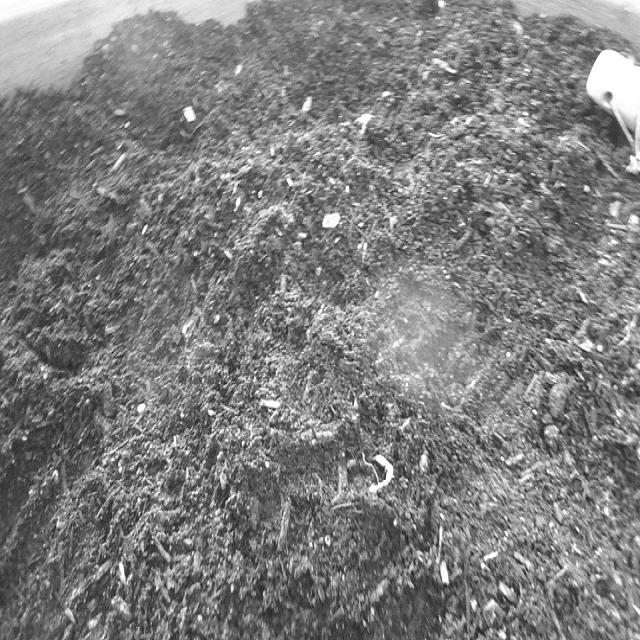Unhealthy: (358, 444, 402, 506)
